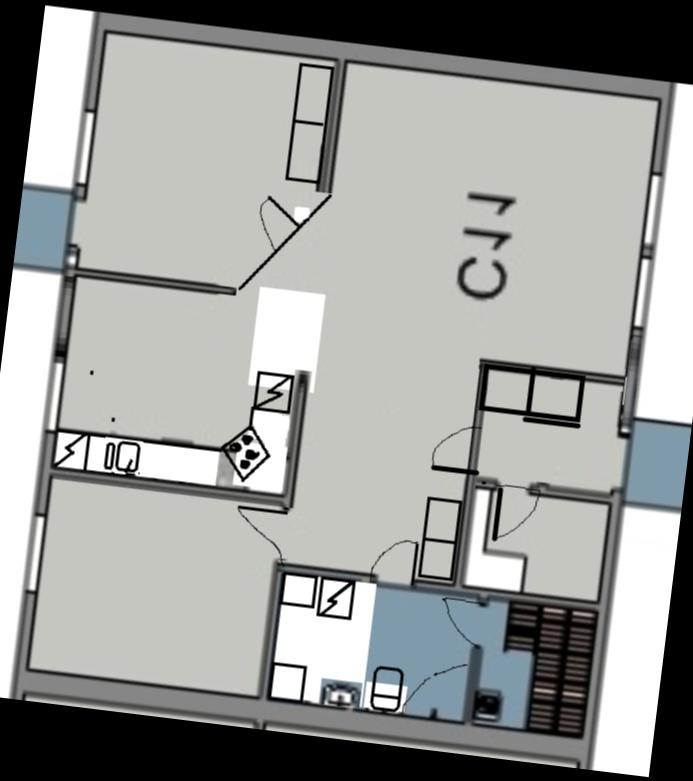door: (426, 410, 484, 478), (230, 502, 292, 560), (364, 534, 420, 593), (488, 480, 538, 541), (250, 191, 302, 249), (434, 596, 488, 650)
window: (68, 99, 102, 195), (36, 349, 70, 438), (20, 503, 48, 600), (635, 164, 663, 253), (625, 248, 656, 328)
